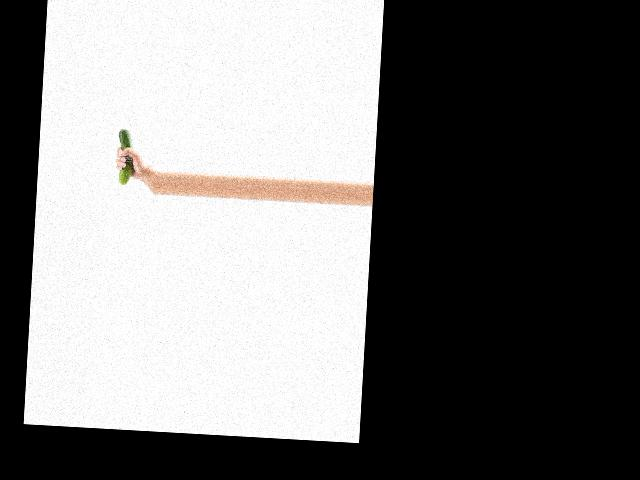cucumber: (115, 128, 135, 185)
